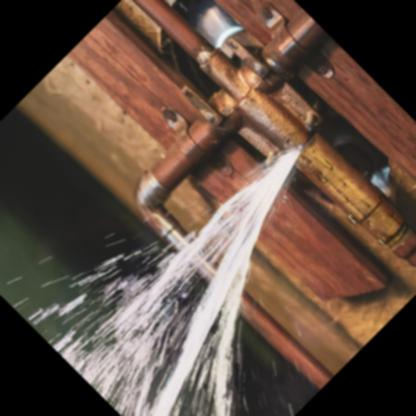burst: (280, 129, 343, 188)
